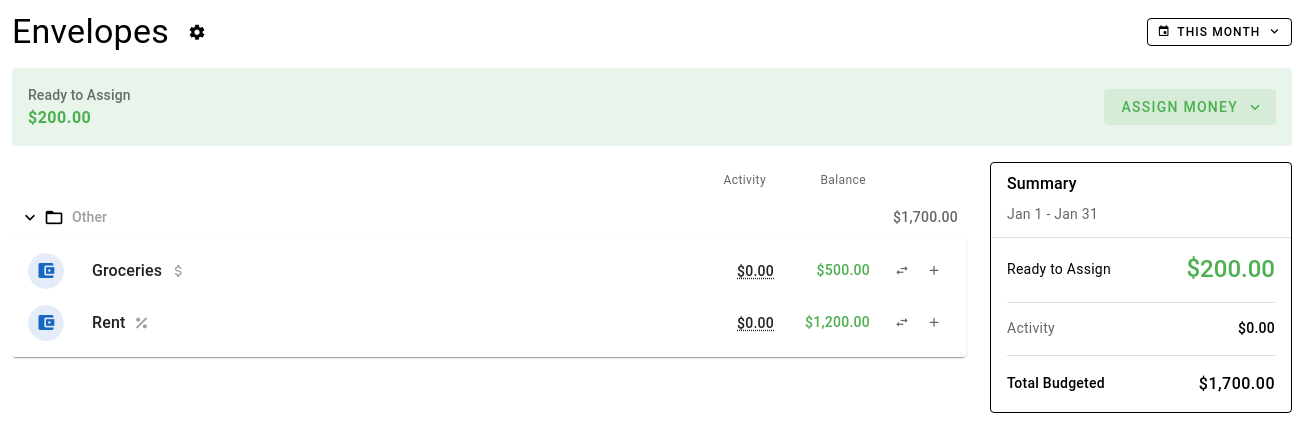
EnvelopesView › shows settings menu with options
// Click gear icon to open menu
Click the button without text next to "Envelopes": [197, 32] box [177,12,217,52]
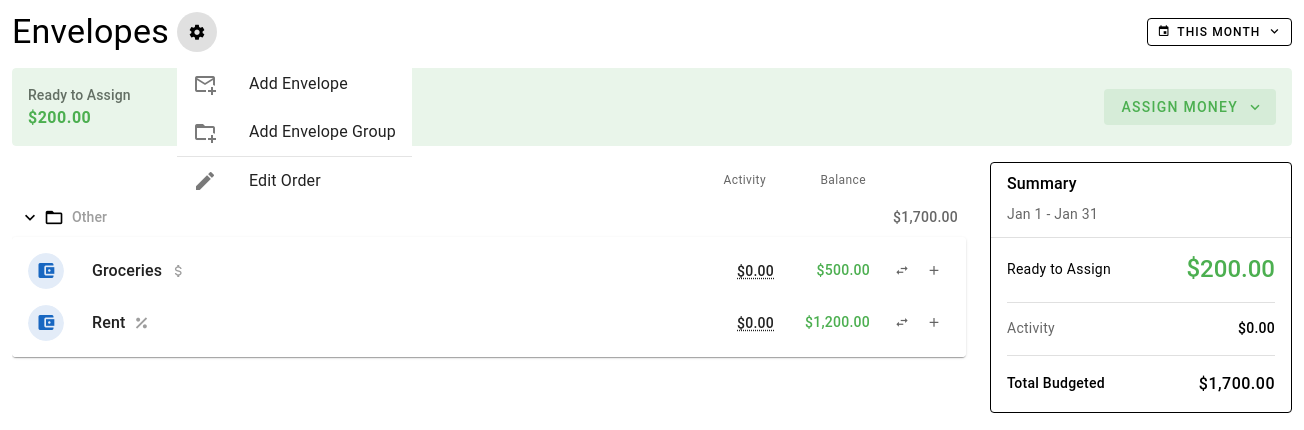
Expected: the text "Add Envelope" is shown, [249,74,348,93]
Expected: the text "Add Envelope Group" is shown, [249,120,396,144]
Expected: the text "Edit Order" is shown, [249,171,321,190]
